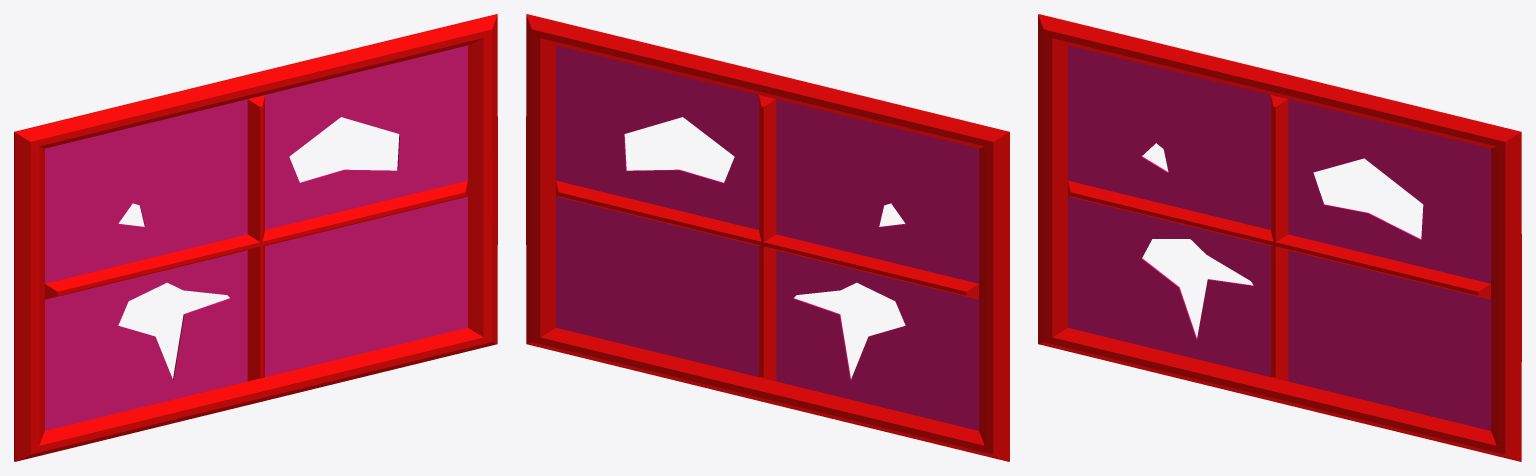
Rendered from window_2.FBX.
The picture shows the model from 3 angles, left to right: view 1: azimuth 30°, elevation 25°; view 2: azimuth 150°, elevation 25°; view 3: azimuth 330°, elevation 25°; orthographic projection.
Visible parts, largest first — view 1: Window; view 2: Window; view 3: Window.
Boxes of the visible parts, <box> form: Window: <box>14,14,497,461</box>; Window: <box>526,14,1009,461</box>; Window: <box>1038,14,1521,461</box>.
Bounding box in the file's own units: 1112 × 726 × 43.54.
